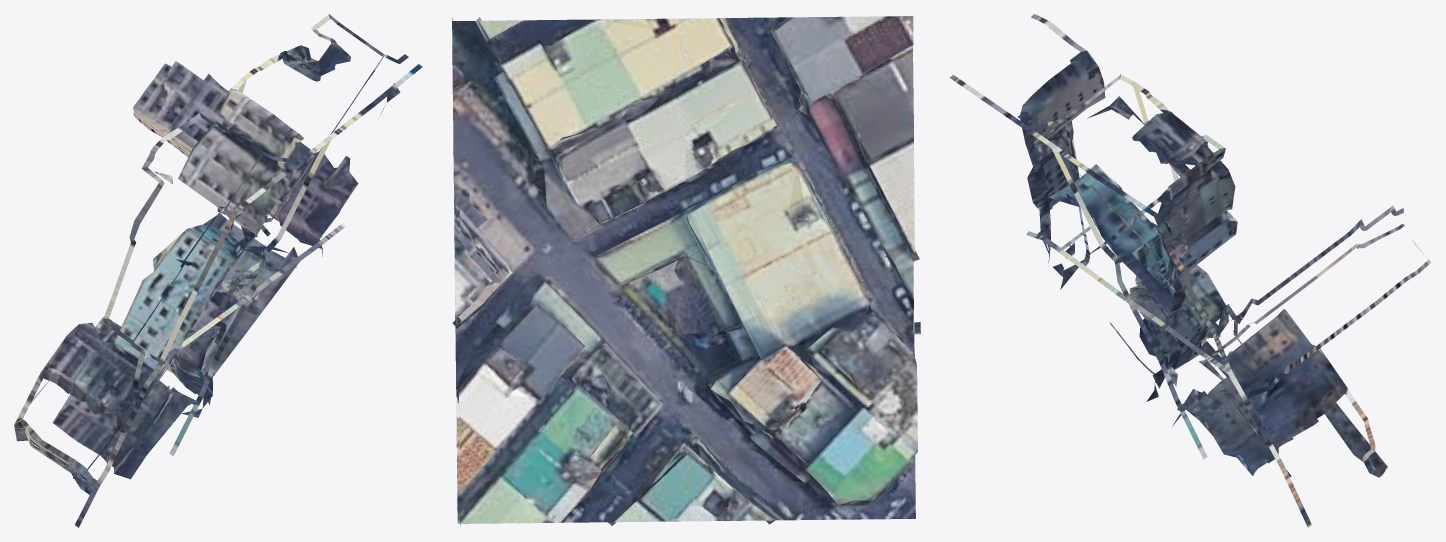
3 views of the same model, side by side, from view 1: azimuth 30°, elevation 25°; view 2: azimuth 150°, elevation 25°; view 3: azimuth 270°, elevation 25° (orthographic). The views are drawn at different scales.
Size of the model in its own units: 82.64 by 77.58 by 85.89.
1 material, 1 textured.
